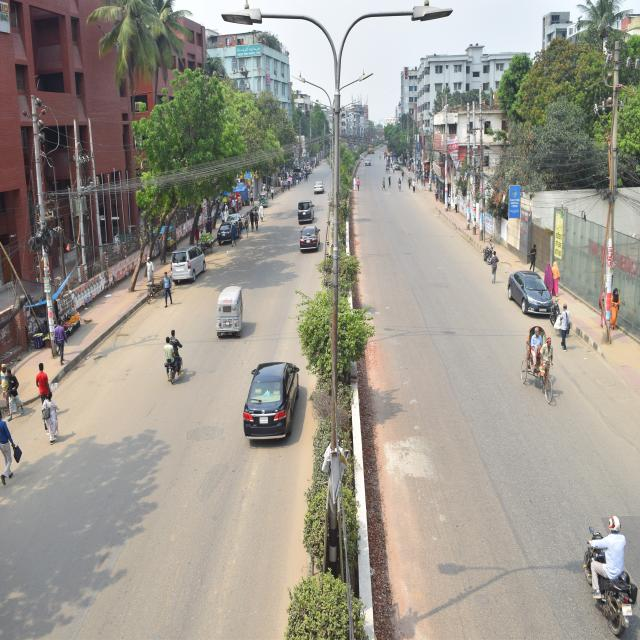car: (241, 350, 304, 433), (508, 263, 555, 329), (297, 219, 321, 253), (215, 212, 237, 245), (310, 178, 326, 195)
microbus: (167, 245, 211, 284), (295, 190, 313, 220)
motorbike: (145, 339, 191, 383), (542, 294, 564, 328), (481, 234, 498, 267)
